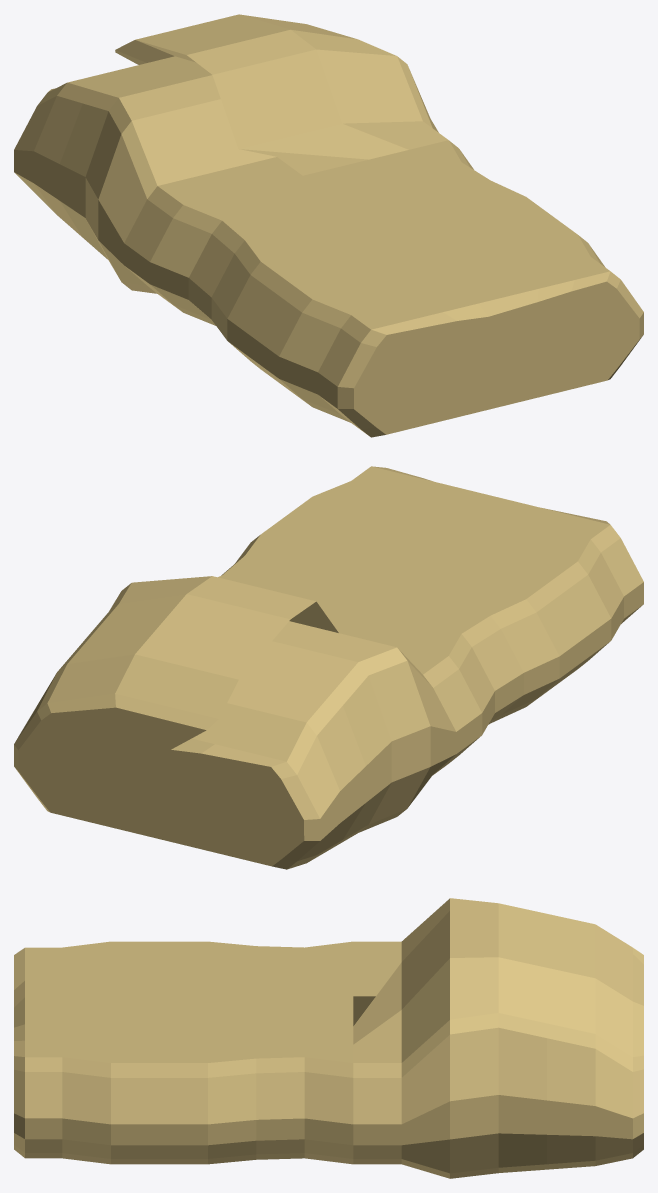
The model's file is tallow_light_a.glb.
3 views of the same model, one above another, from view 1: azimuth 30°, elevation 25°; view 2: azimuth 150°, elevation 25°; view 3: azimuth 270°, elevation 25° (orthographic). The views are drawn at different scales.
Parts seen in each view (by area): view 1: tallow_light_a; view 2: tallow_light_a; view 3: tallow_light_a.
Part boxes in pixels (x1,y1,x2,y2): tallow_light_a: (14, 14, 643, 437); tallow_light_a: (14, 466, 643, 869); tallow_light_a: (14, 898, 643, 1178).
Size of the model in its own units: 2.8 by 1.59 by 4.9.
